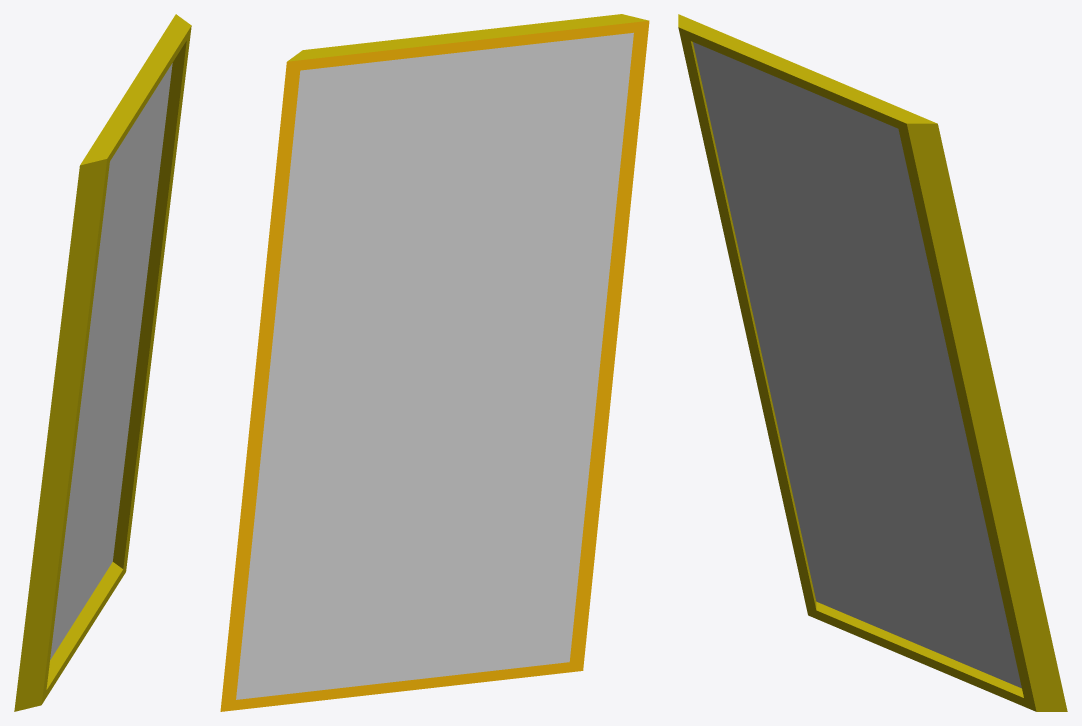
File: window_angle_slanted_2x2x5.dae
The picture shows the model from 3 angles, left to right: view 1: azimuth 30°, elevation 25°; view 2: azimuth 150°, elevation 25°; view 3: azimuth 270°, elevation 25°; orthographic projection. The views are drawn at different scales.
Visible parts, largest first — view 1: Cube; view 2: Cube; view 3: Cube.
Boxes of the visible parts, x1,y1,x2,y2 form: Cube: [14, 14, 191, 711]; Cube: [220, 14, 649, 711]; Cube: [678, 14, 1067, 711].
Bounding box in the file's own units: 0.5 × 0.75 × 1.25.
